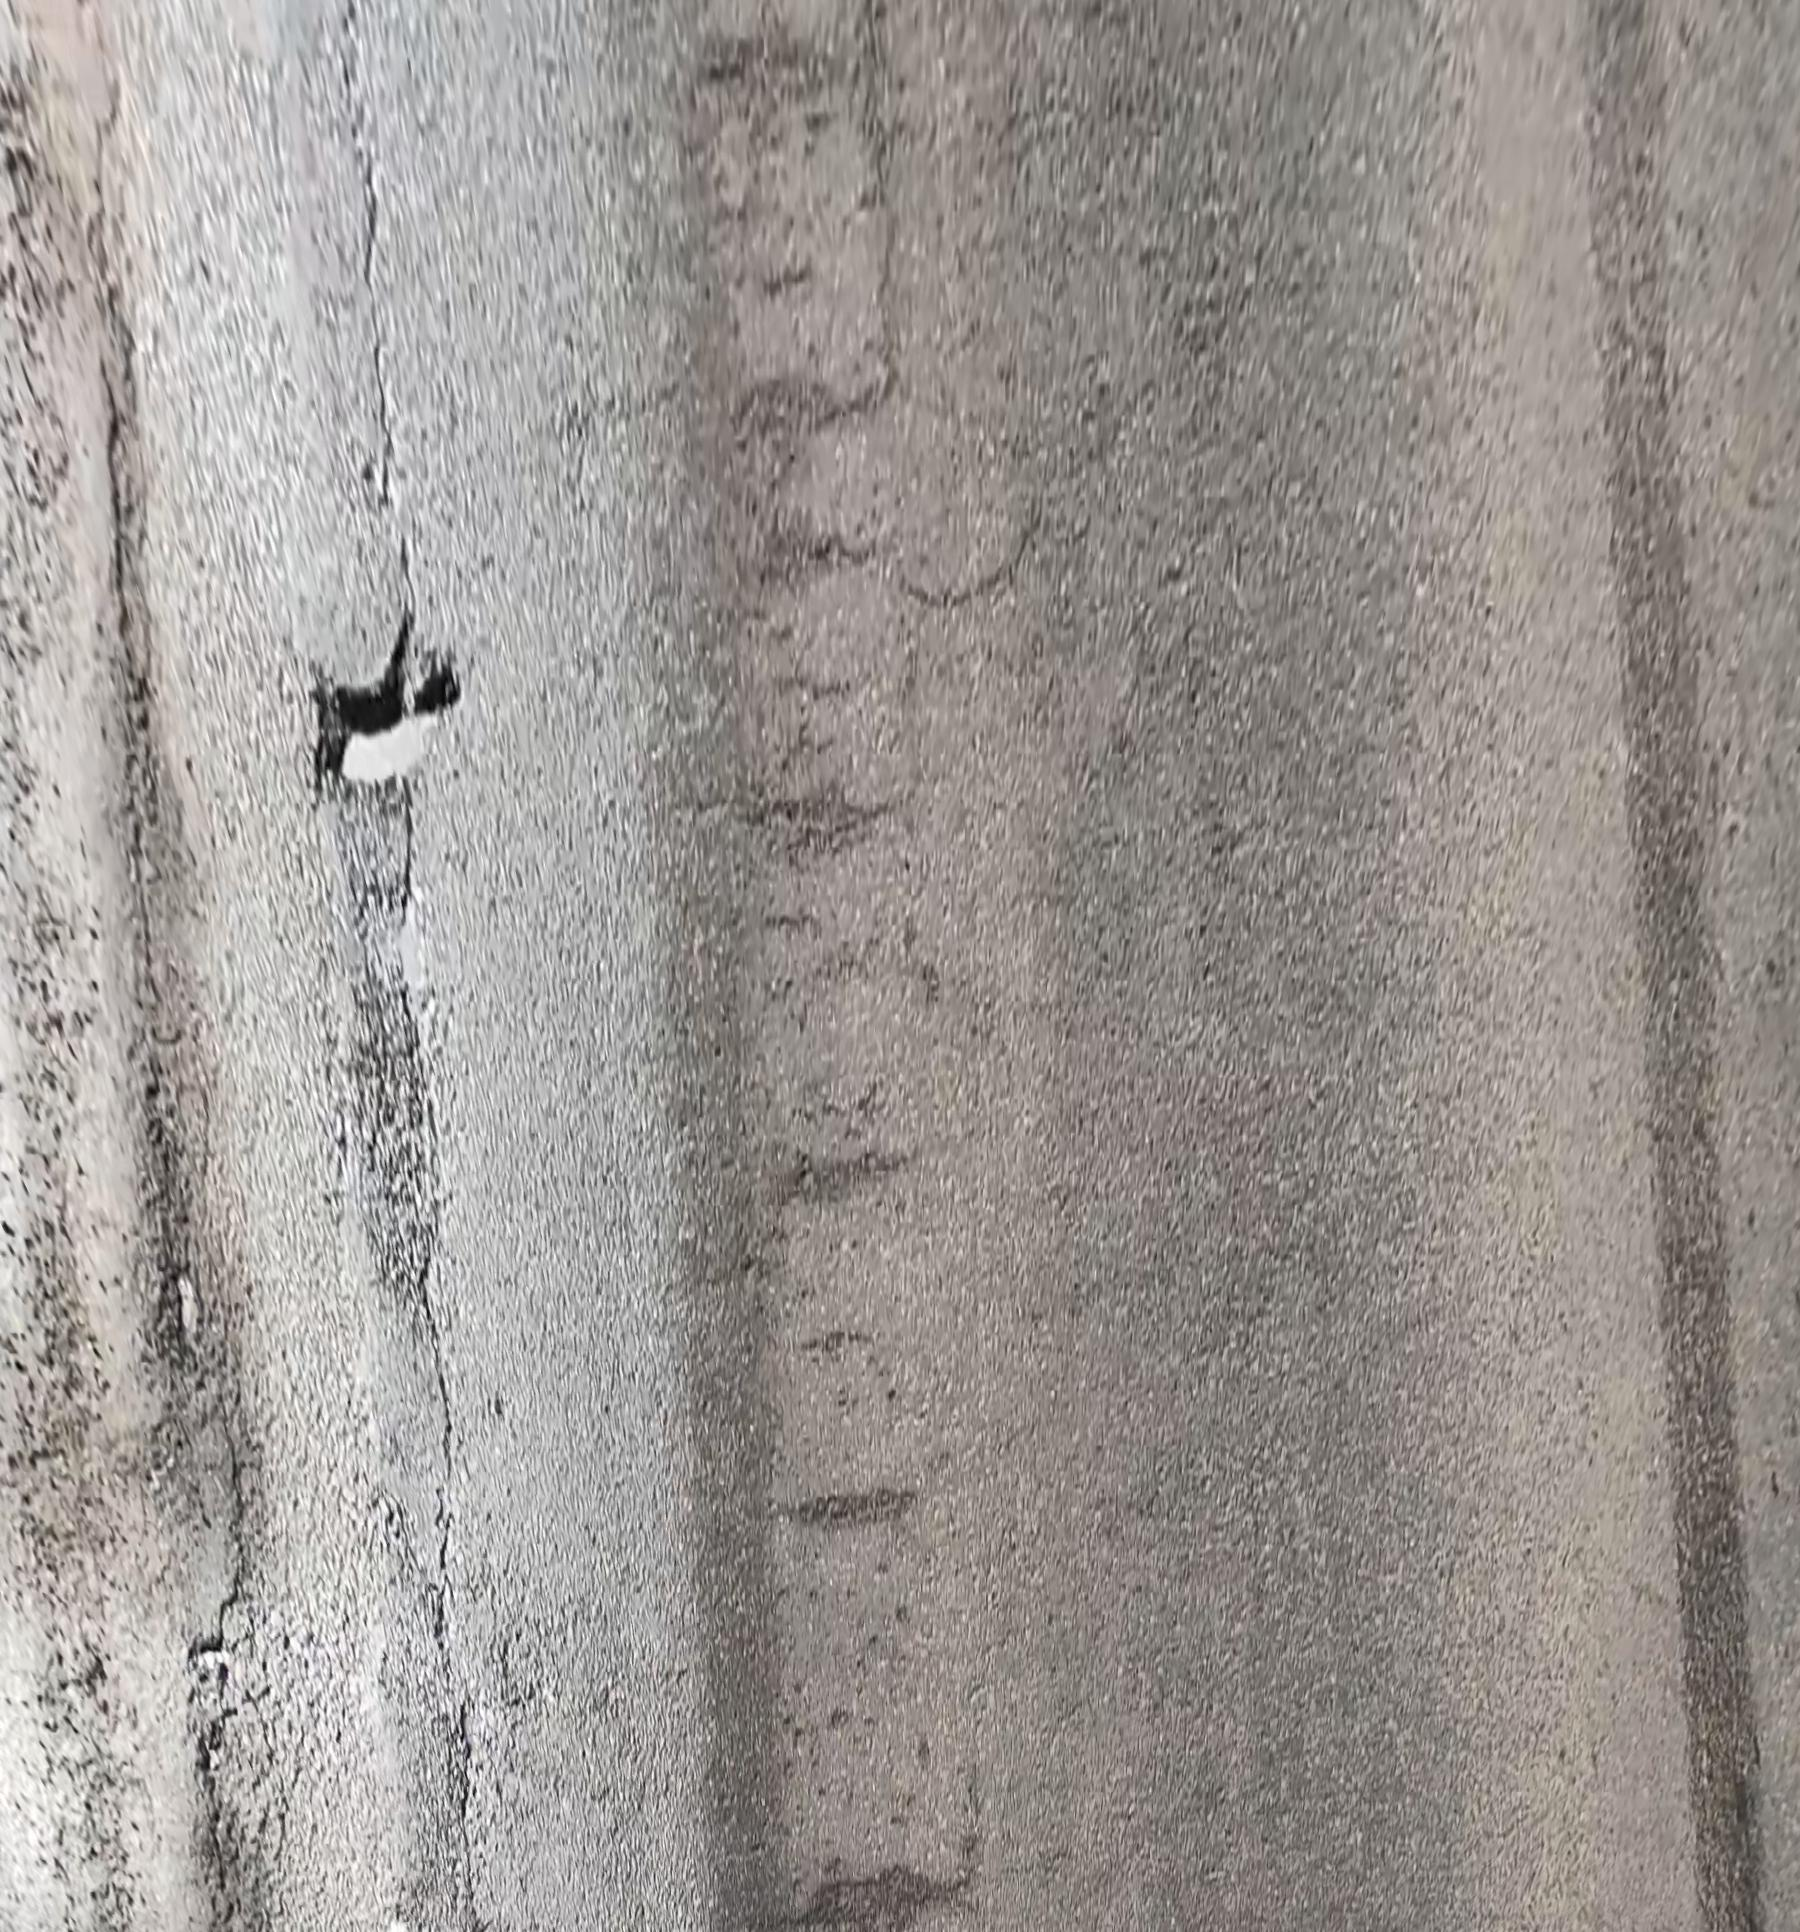pothole: (308, 656, 472, 792)
